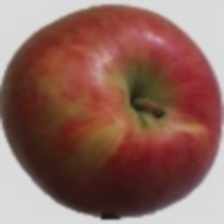apple: (35, 13, 201, 177)
